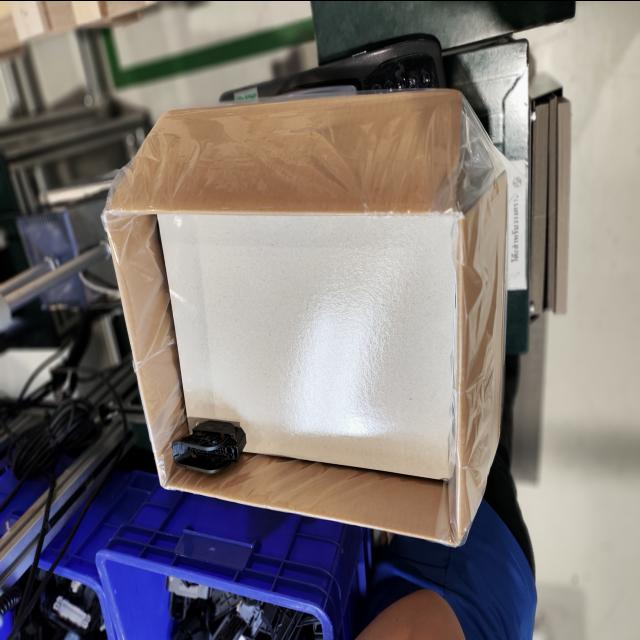P38: (171, 418, 247, 472)
